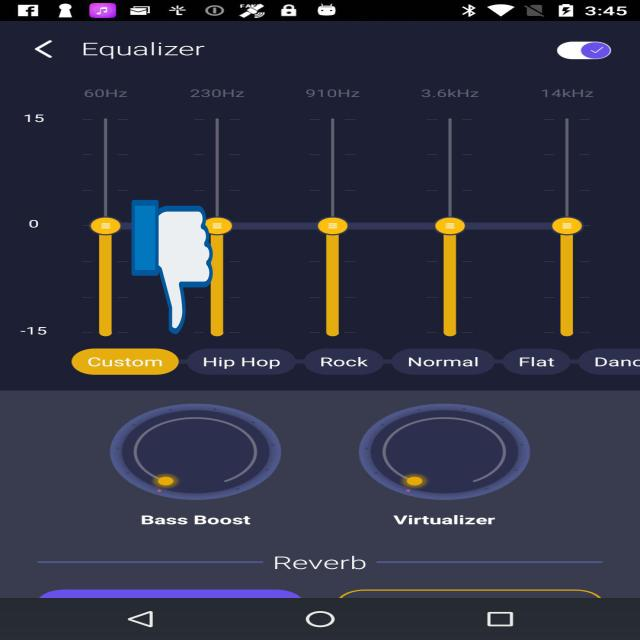obstruction: (132, 197, 212, 337)
